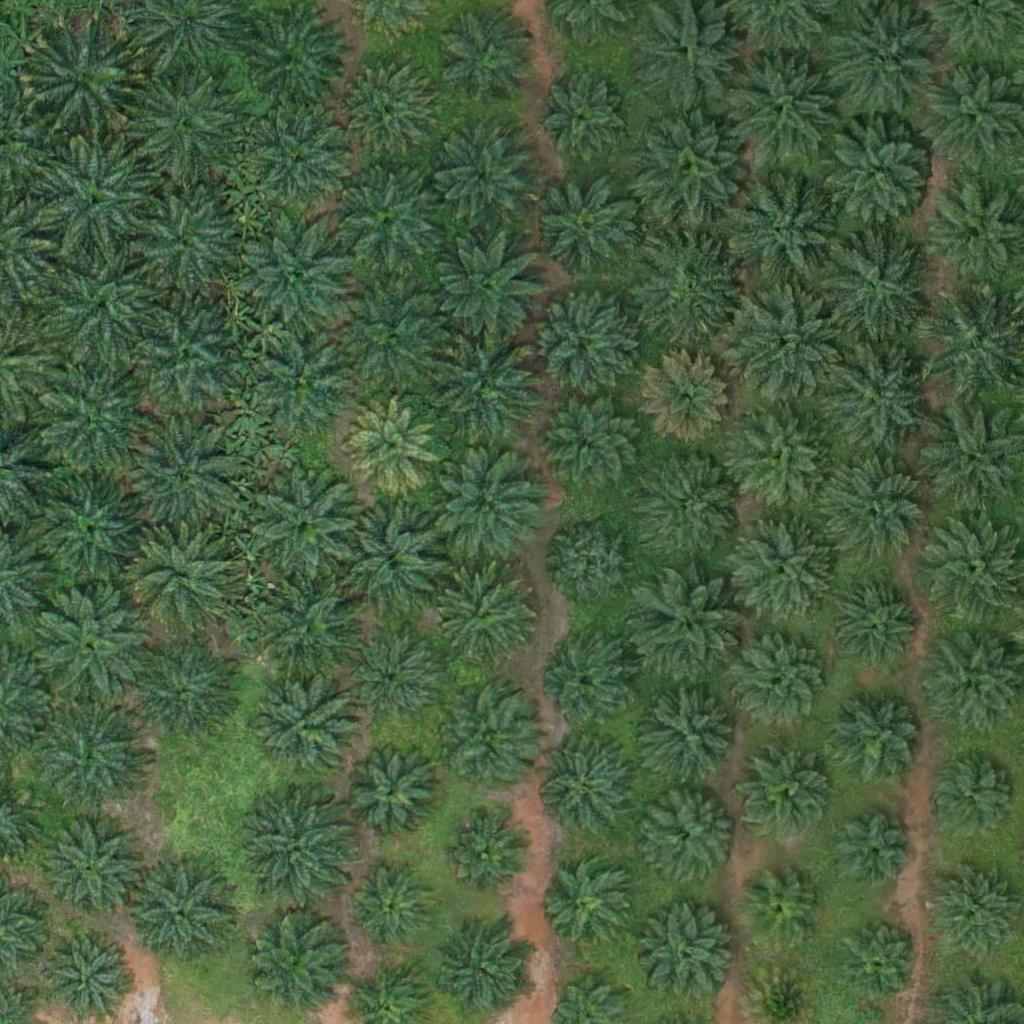Kelapa_Sawit: (241, 105, 354, 219), (333, 159, 446, 273), (339, 285, 452, 399), (431, 230, 544, 344), (428, 453, 541, 567), (45, 248, 158, 361), (634, 111, 747, 224), (724, 52, 837, 165), (726, 178, 839, 291), (729, 288, 842, 401), (821, 341, 934, 454), (36, 362, 149, 475), (36, 476, 149, 589), (33, 591, 146, 704), (34, 708, 147, 821), (243, 793, 356, 906), (429, 328, 542, 441), (131, 67, 243, 181), (244, 218, 356, 332), (252, 468, 364, 582), (337, 502, 449, 616), (31, 23, 143, 136), (41, 141, 153, 254), (635, 233, 747, 346), (828, 2, 940, 115), (822, 114, 934, 227), (817, 227, 929, 340), (128, 424, 240, 537), (637, 576, 749, 689), (136, 187, 236, 288), (131, 300, 231, 401), (439, 3, 539, 104), (434, 128, 534, 229), (533, 176, 633, 277), (823, 455, 923, 556), (734, 406, 834, 507), (129, 530, 229, 631), (135, 644, 235, 745), (258, 581, 358, 682), (260, 684, 360, 785), (541, 392, 641, 493), (643, 452, 743, 553), (436, 920, 536, 1021), (249, 906, 349, 1007), (134, 863, 234, 964), (42, 820, 142, 921), (533, 292, 633, 392), (733, 518, 833, 618), (731, 629, 831, 729), (247, 332, 347, 432), (435, 568, 535, 668), (439, 700, 539, 800), (641, 786, 741, 886), (637, 904, 737, 1004), (537, 72, 625, 160), (744, 749, 832, 837), (641, 353, 729, 441), (344, 632, 432, 720), (346, 749, 434, 837), (647, 689, 735, 777), (448, 810, 536, 898), (349, 861, 437, 949), (47, 935, 135, 1023), (346, 61, 433, 149), (929, 749, 1016, 837), (931, 861, 1018, 949), (828, 579, 915, 667), (834, 698, 921, 786), (348, 398, 435, 486), (549, 520, 636, 608), (550, 638, 637, 726), (541, 744, 628, 832), (547, 863, 634, 951), (744, 874, 819, 950), (834, 813, 909, 889), (841, 922, 916, 998)
